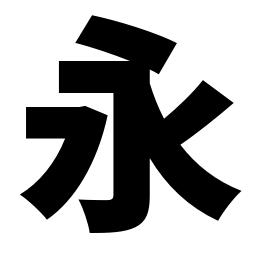D: (73, 12, 178, 52)
HSZ: (107, 59, 154, 100)
Hs: (56, 57, 93, 95)
Ne: (190, 172, 244, 225)
PNc: (152, 111, 186, 159)
PZe: (19, 182, 56, 221)
Ps: (193, 78, 236, 114)
SG: (75, 193, 153, 234)
Sm: (109, 163, 152, 188)
TPZ: (53, 103, 109, 155)
Ts: (22, 103, 47, 142)
